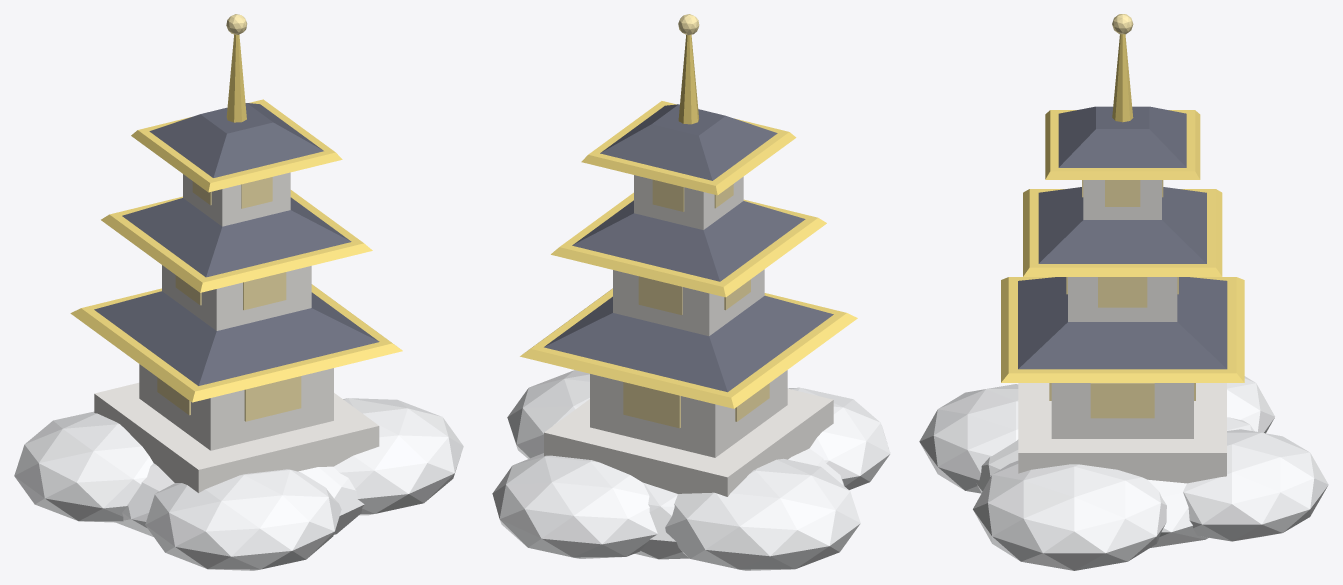
The model's file is SM_Kitsune_Sky_Pagoda.fbx.
The picture shows the model from 3 angles, left to right: view 1: azimuth 30°, elevation 25°; view 2: azimuth 150°, elevation 25°; view 3: azimuth 270°, elevation 25°; orthographic projection.
Visible parts, largest first — view 1: SM_Kitsune_Sky_Pagoda; view 2: SM_Kitsune_Sky_Pagoda; view 3: SM_Kitsune_Sky_Pagoda.
Boxes of the visible parts, <box> form: SM_Kitsune_Sky_Pagoda: <box>14,14,463,570</box>; SM_Kitsune_Sky_Pagoda: <box>492,14,890,570</box>; SM_Kitsune_Sky_Pagoda: <box>919,14,1328,570</box>.
Bounding box in the file's own units: 1668 × 2192 × 1610.
